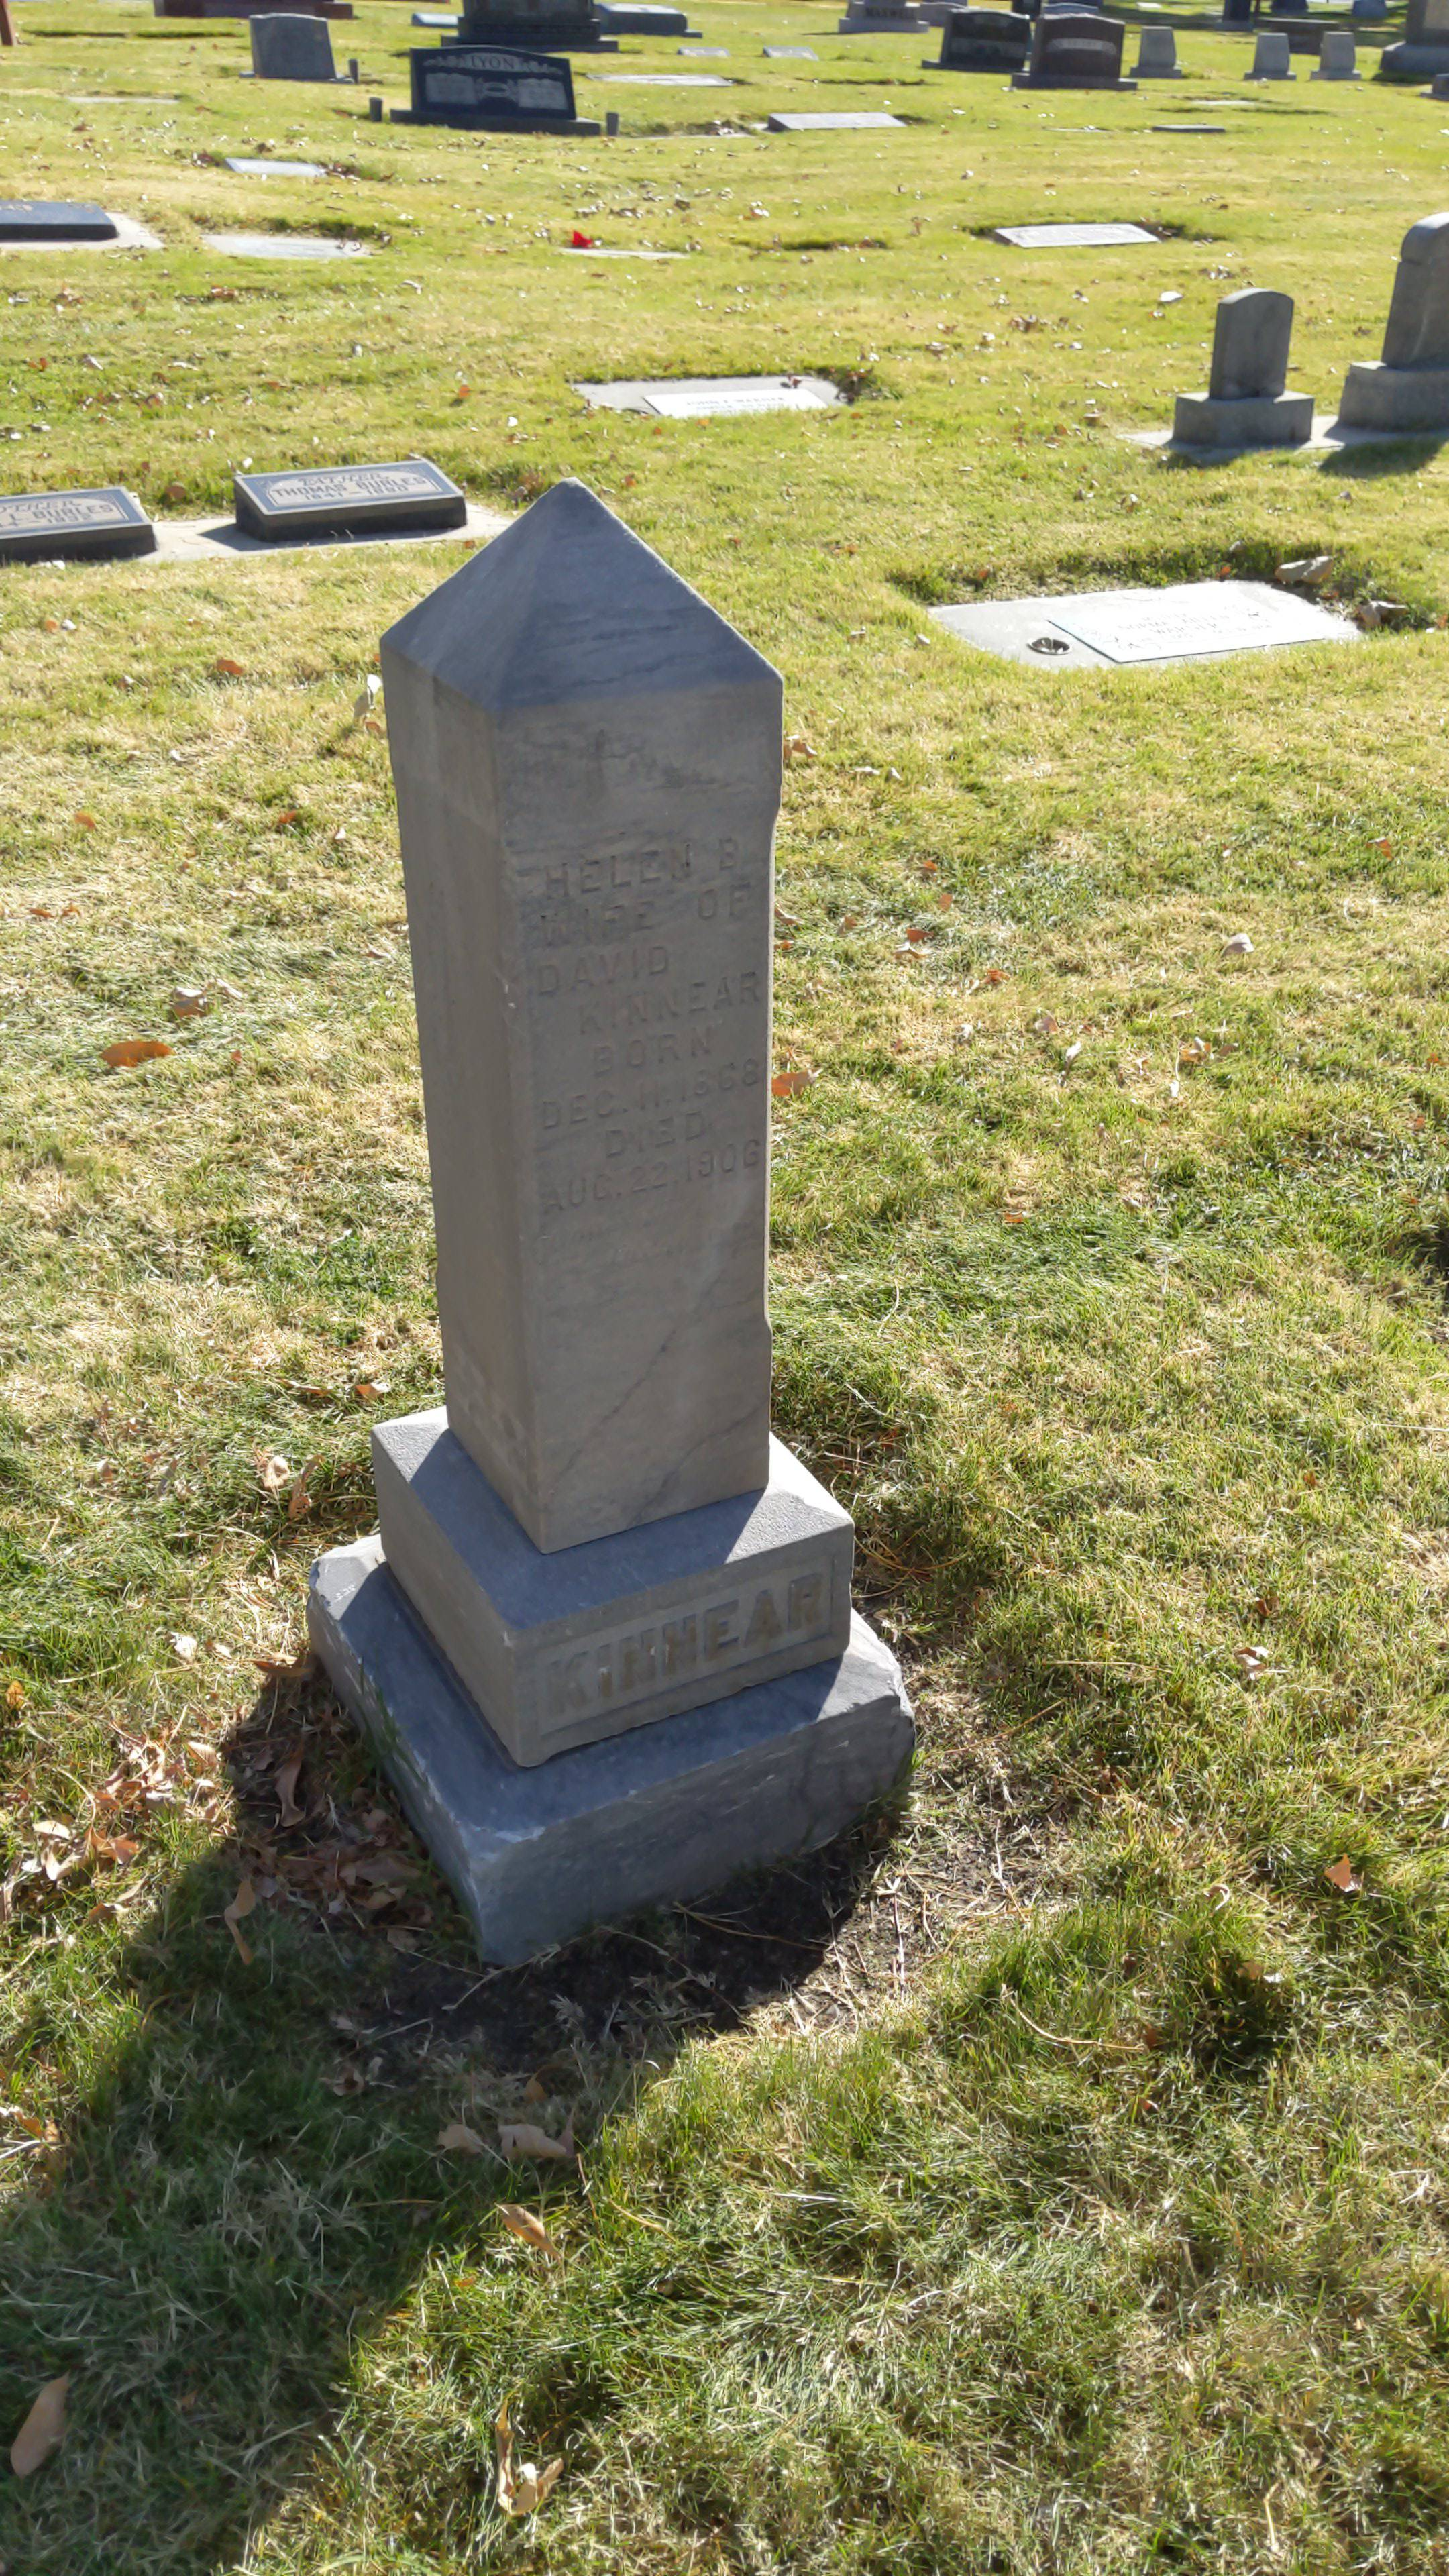obelisk: (364, 479, 853, 1771)
